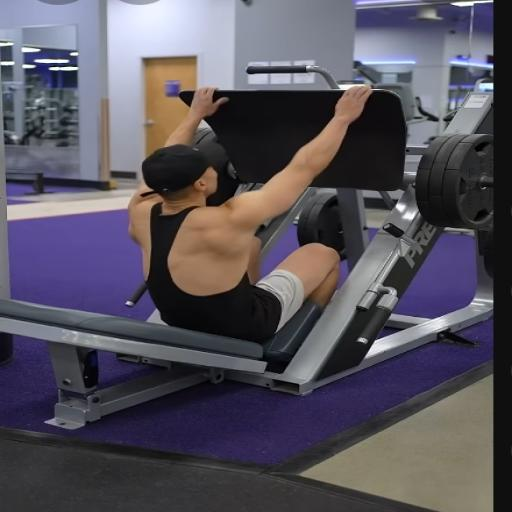Leg Press: (34, 86, 464, 413)
